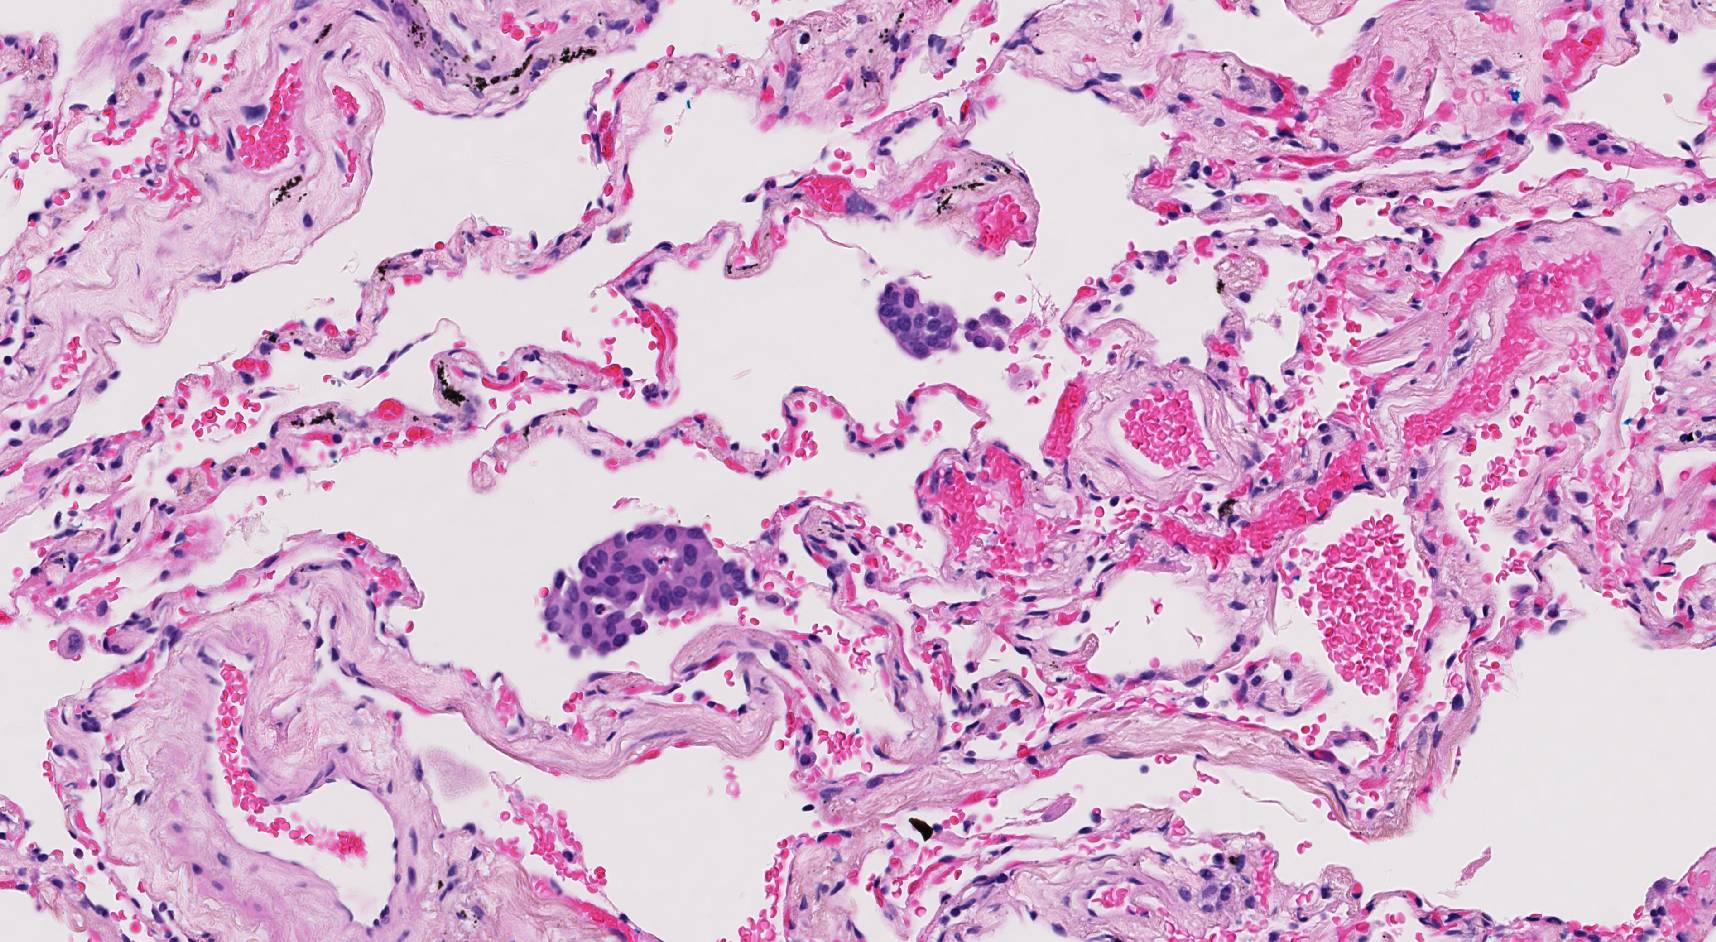stas: (541, 522, 754, 656), (877, 277, 1012, 359)
